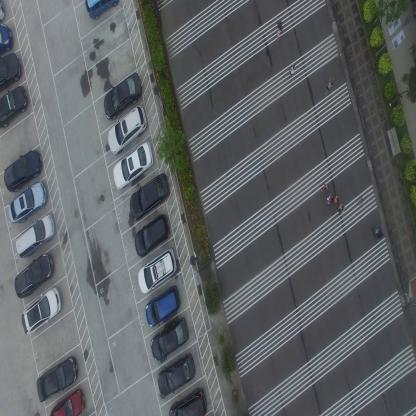car: (112, 139, 153, 191), (107, 103, 147, 156), (129, 171, 170, 222), (36, 354, 78, 403), (137, 247, 178, 296), (21, 286, 61, 336), (14, 250, 54, 298), (103, 71, 142, 120), (16, 212, 56, 258), (150, 317, 190, 362), (157, 352, 195, 398), (8, 180, 47, 224), (3, 148, 42, 192), (134, 212, 170, 258), (144, 284, 180, 327), (0, 84, 28, 129), (168, 388, 208, 415), (50, 388, 85, 415), (0, 50, 21, 94), (84, 0, 121, 22), (0, 21, 13, 54)
